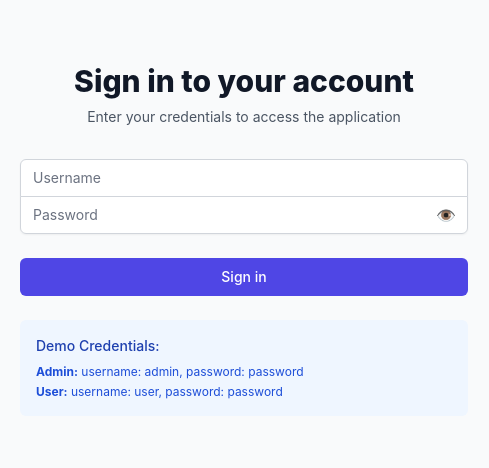
Test case: LoginPage › should validate password length
In the field with placeholder "Username": (244, 178) [20,158,468,196], type "testuser"
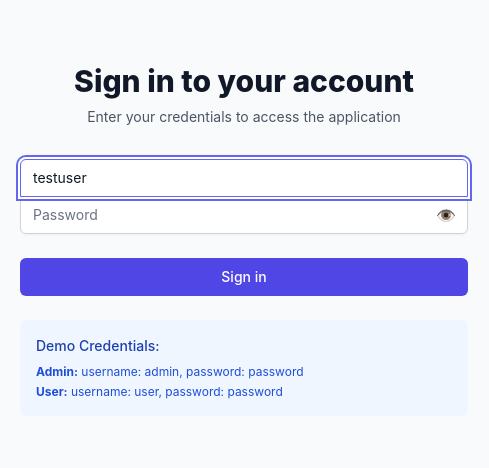
In the password field with placeholder "Password": (244, 214) [20,196,468,234], type "12345"
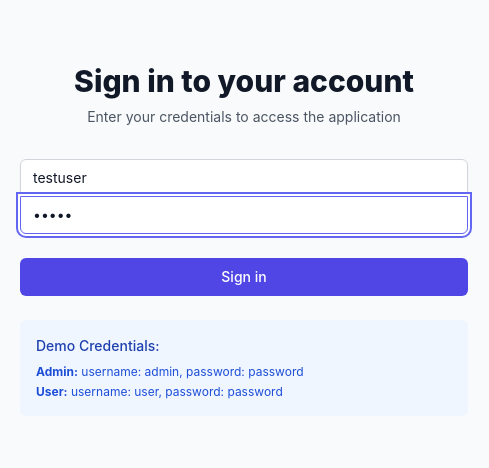
Click the button "Sign in": (244, 276) [20,258,468,296]
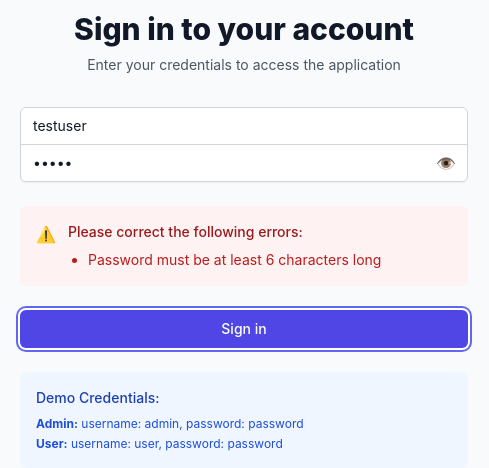
Check: the list item "Password must be at least 6 characters long" is shown, box [88,250,381,270]
